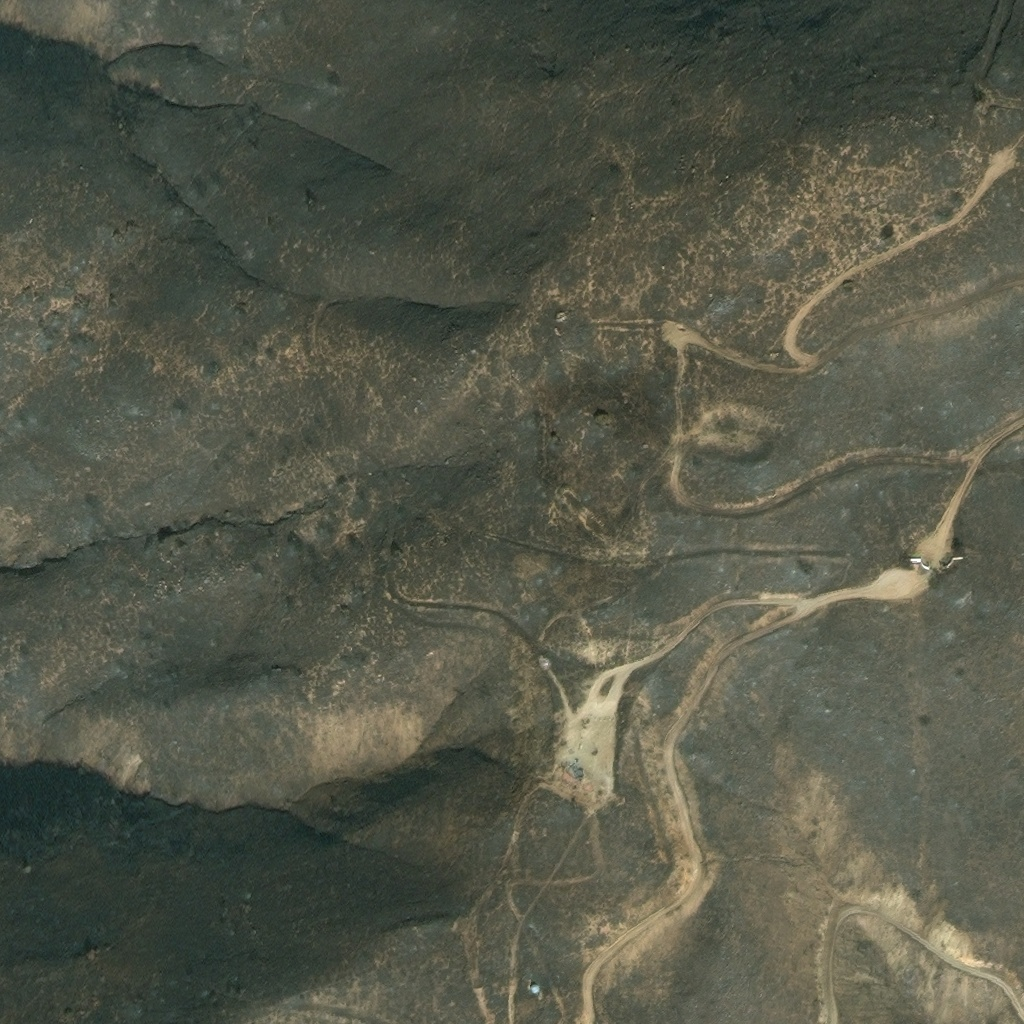0 no-damage: (529, 986, 540, 997)
3 destroyed: (561, 763, 585, 789)
